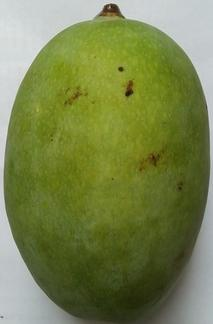Unripe: (1, 1, 213, 324)
